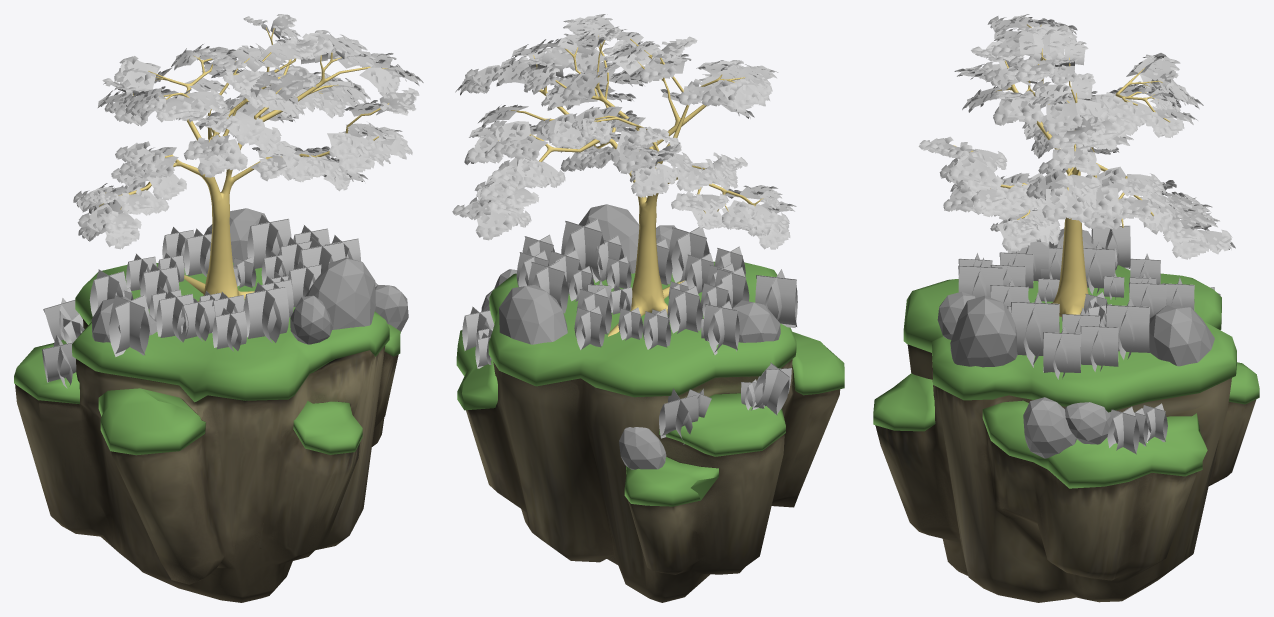
The model's file is pulau 2.fbx.
The picture shows the model from 3 angles, left to right: view 1: azimuth 30°, elevation 25°; view 2: azimuth 150°, elevation 25°; view 3: azimuth 270°, elevation 25°; orthographic projection. The views are drawn at different scales.
Visible parts, largest first — view 1: Cube.008, daun 5 bentuk 2.082, Cube.006, Icosphere, rumput1.009, rumput1.011, Icosphere.001, rumput1.016, rumput1.026, rumput1.010, rumput1.027, Icosphere.003 (+13 smaller); view 2: Cube.008, daun 5 bentuk 2.082, Cube.006, Icosphere.003, Icosphere, rumput1.011, Icosphere.004, rumput1.002, Icosphere.002, rumput1.013, rumput1.009, rumput1.003 (+21 smaller); view 3: Cube.008, daun 5 bentuk 2.082, Cube.006, Icosphere, Icosphere.003, Icosphere.006, rumput1.002, rumput1.016, rumput1.018, Icosphere.005, rumput1.017, rumput1.009 (+14 smaller).
Part boxes in pixels (box(x1,y1,x2,y2)): Cube.008: box(15, 318, 398, 602); daun 5 bentuk 2.082: box(73, 14, 423, 301); Cube.006: box(14, 263, 400, 455); Icosphere: box(305, 257, 375, 329); rumput1.009: box(243, 282, 289, 342); rumput1.011: box(109, 295, 150, 356); Icosphere.001: box(290, 295, 332, 344); rumput1.016: box(247, 214, 291, 268); rumput1.026: box(156, 290, 193, 342); rumput1.010: box(212, 308, 247, 351); rumput1.027: box(42, 334, 76, 388); Icosphere.003: box(204, 208, 267, 262); Cube.008: box(466, 359, 840, 602); daun 5 bentuk 2.082: box(452, 14, 796, 336); Cube.006: box(456, 261, 844, 506); Icosphere.003: box(499, 285, 567, 344); Icosphere: box(579, 204, 639, 273); rumput1.011: box(755, 269, 797, 327); Icosphere.004: box(619, 427, 666, 469); rumput1.002: box(561, 219, 604, 280); Icosphere.002: box(731, 300, 780, 342); rumput1.013: box(703, 301, 739, 354); rumput1.009: box(669, 227, 709, 282); rumput1.003: box(667, 286, 702, 333); Cube.008: box(875, 344, 1256, 602); daun 5 bentuk 2.082: box(918, 14, 1235, 316); Cube.006: box(873, 265, 1259, 488); Icosphere: box(950, 295, 1017, 367); Icosphere.003: box(1149, 305, 1214, 366); Icosphere.006: box(1023, 397, 1076, 458); rumput1.002: box(1011, 293, 1059, 367); rumput1.016: box(1106, 297, 1149, 359); rumput1.018: box(1043, 325, 1081, 379); Icosphere.005: box(1064, 402, 1110, 444); rumput1.017: box(1080, 319, 1118, 371); rumput1.009: box(958, 257, 1003, 297).
Size of the model in its own units: 554 by 799 by 502.
